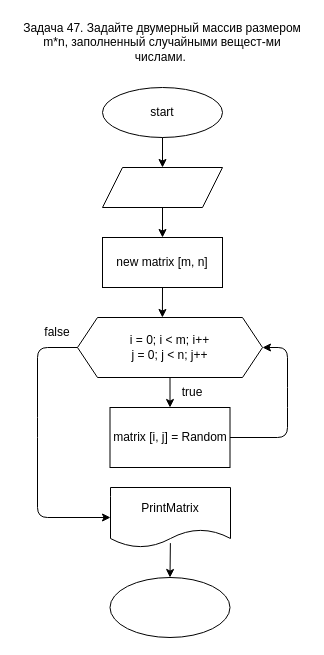
Some shapes in this 324 by 655 pixel diagram are drawn without their labels. The shapes that lost their labels are listed below. From the top down, each one's box as (x1, y1, x2, y2) in pixels, then its label:
(102, 166, 222, 208): m, n
(109, 576, 230, 638): finish
